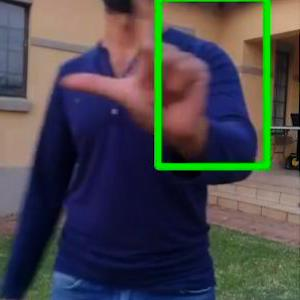land_hand: (56, 0, 218, 147)
